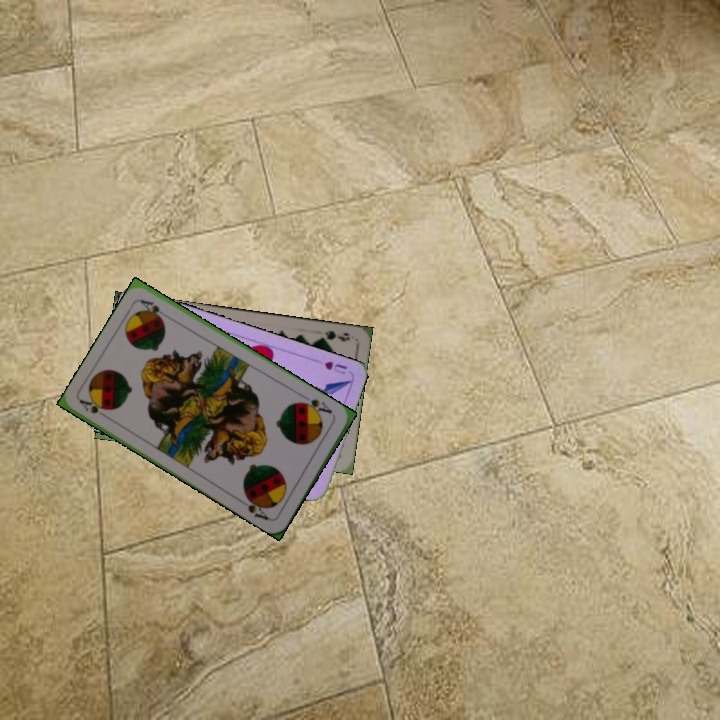G9: (314, 326, 352, 344)
HU: (320, 357, 350, 377)
SA: (76, 396, 113, 423), (297, 395, 335, 418)
